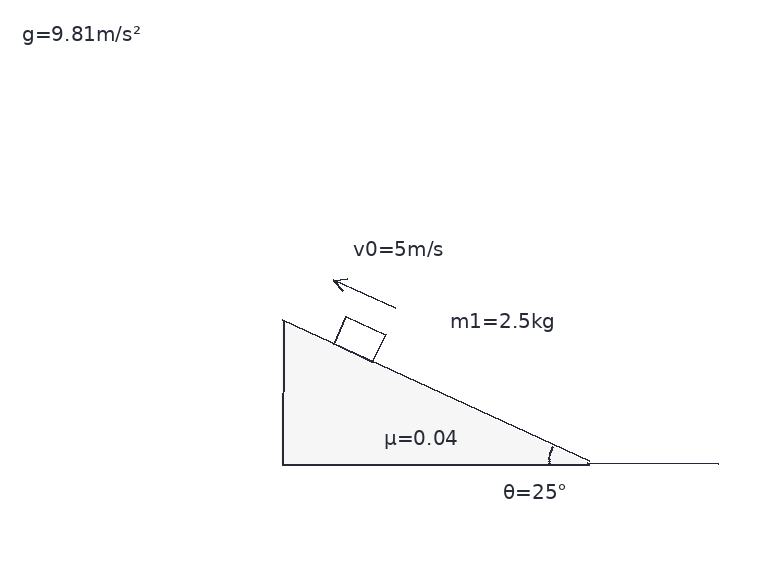block: (331, 314, 386, 363)
ramp: (280, 318, 591, 465)
